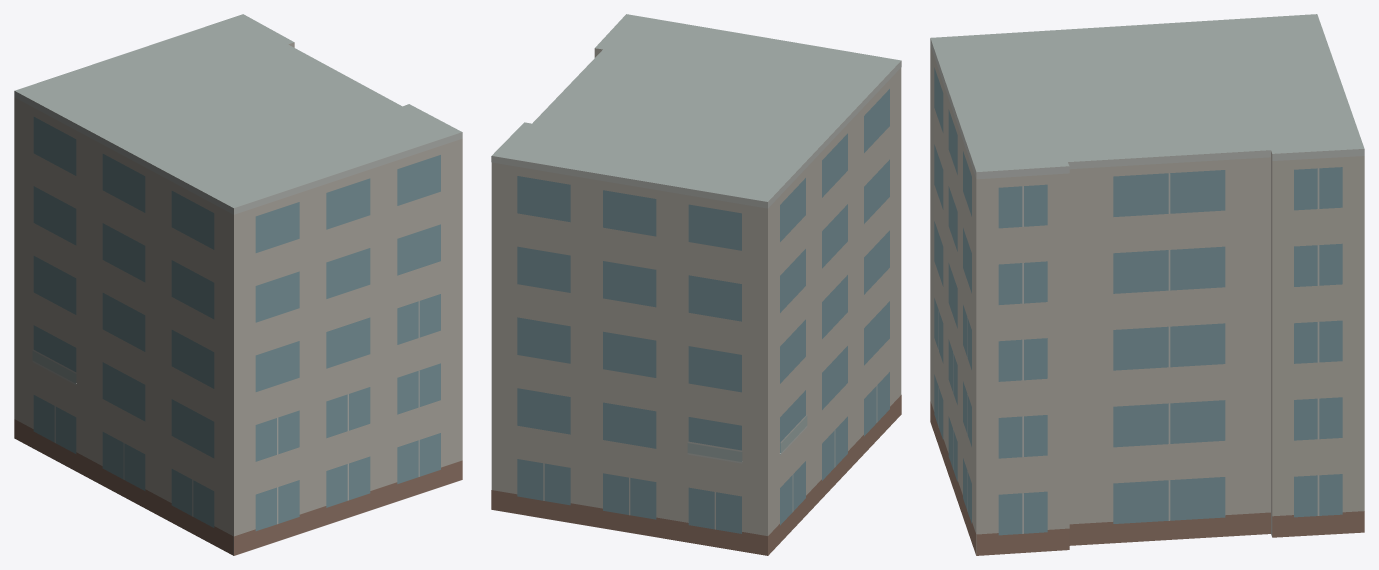
The model's file is survey-upis-33046303.glb.
3 renders of one model, left to right at view 1: azimuth 30°, elevation 25°; view 2: azimuth 150°, elevation 25°; view 3: azimuth 270°, elevation 25°, orthographic. The views are drawn at different scales.
Visible parts, largest first — view 1: survey-upis-33046303.tmp; view 2: survey-upis-33046303.tmp; view 3: survey-upis-33046303.tmp.
Part boxes in pixels (<box>): survey-upis-33046303.tmp: <box>14,14,462,555</box>; survey-upis-33046303.tmp: <box>491,14,901,555</box>; survey-upis-33046303.tmp: <box>930,14,1364,555</box>.
Size of the model in its own units: 11.5 by 13 by 13.34.
